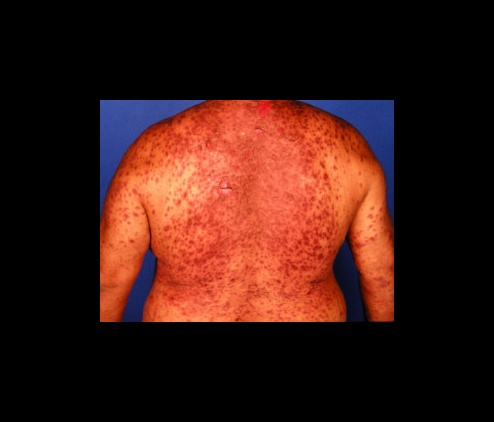SJS-TEN: (92, 96, 397, 328)
